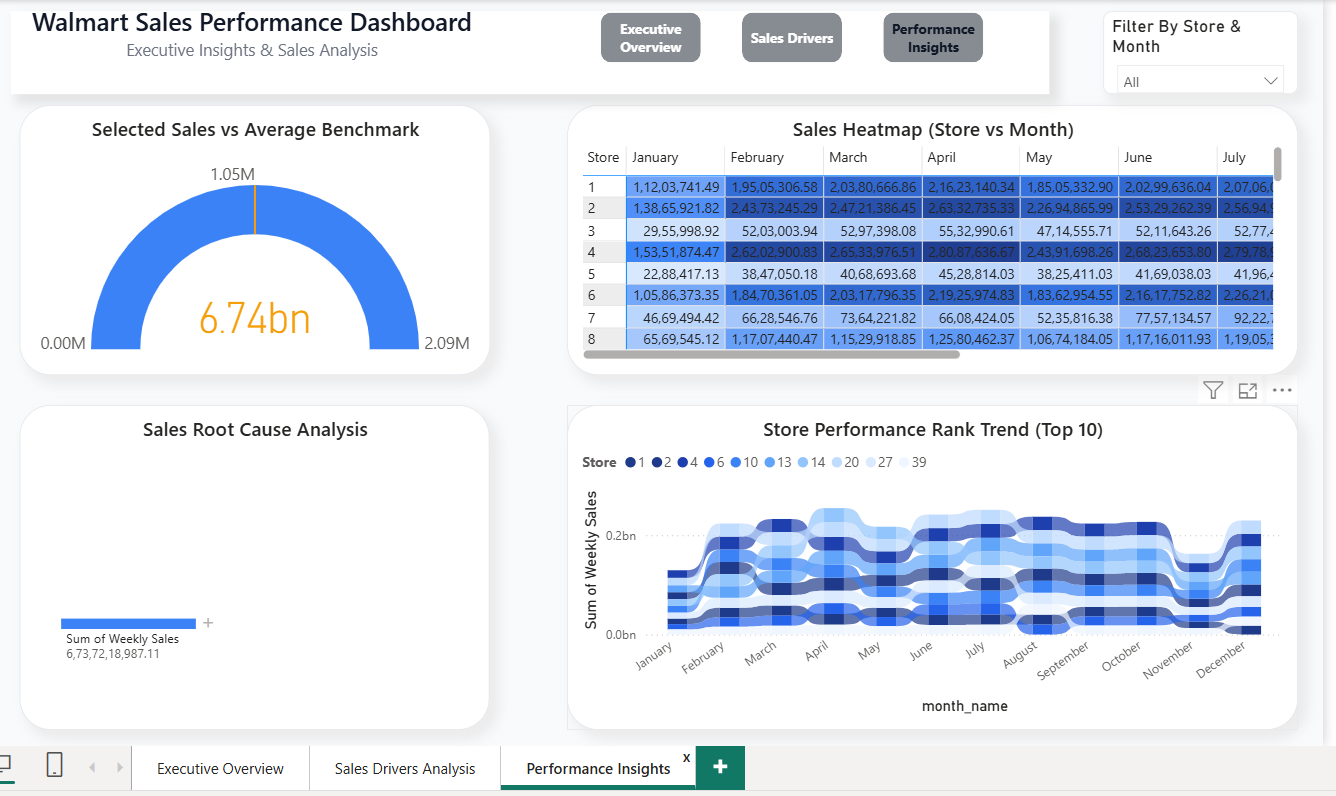

This screenshot's page, from the dashboard's own definition file:
{"tool":"powerbi","page":{"name":"Performance Insights","canvas":[1280,720],"ordinal":2},"visuals":[{"type":"ribbonChart","title":"Store Performance Rank Trend (Top 10)","fields":{"Category":["Walmart Sales.month_name"],"Series":["Walmart Sales.Store"],"Y":["Sum(Walmart Sales.Weekly Sales)"]},"box":[550.1,390.9,705.8,313.7],"z":0},{"type":"decompositionTreeVisual","title":"Sales Root Cause Analysis","fields":{"ExplainBy":["Walmart Sales.Holiday Type","Walmart Sales.Store","Walmart Sales.month_name"],"Analyze":["Sum(Walmart Sales.Weekly Sales)"]},"box":[21.7,390.9,453.6,313.7],"z":1000},{"type":"pivotTable","title":"Sales Heatmap (Store vs Month)","fields":{"Rows":["Walmart Sales.Store"],"Columns":["Walmart Sales.month_name"],"Values":["Sum(Walmart Sales.Weekly Sales)"]},"box":[550.1,101.3,705.8,260.6],"z":2000},{"type":"slicer","title":"Filter By Store & Month","fields":{"Values":["Walmart Sales.Store","Walmart Sales.month_name"]},"box":[1068,10.7,188,80],"z":3000},{"type":"shape","box":[13.3,10.7,1002.7,80],"z":4001},{"type":"actionButton","box":[582.7,12.1,96.5,48.3],"z":4002},{"type":"actionButton","box":[719,12.1,96.5,48.3],"z":4003},{"type":"actionButton","box":[855.4,12.1,96.5,48.3],"z":4004},{"type":"textbox","box":[0,0,492.2,100.1],"z":4005},{"type":"gauge","title":"Selected Sales vs Average Benchmark","fields":{"Y":["Sum(Walmart Sales.Weekly Sales)"],"TargetValue":["Avg(Walmart Sales.Weekly Sales)"],"MaxValue":["Walmart Sales.Max Gauge Value"]},"box":[22.2,101.4,454.2,261.1],"z":4006}]}

Visuals, with their boxes on the page's 1280x720 design canvas (x1, y1, x2, y2). These are canvas units, not pixel positions in the 1336x796 screenshot, which may show the page scaled, cropped or inside an application window:
"Store Performance Rank Trend (Top 10)" ribbonChart: [x1=550, y1=391, x2=1256, y2=705]
"Sales Root Cause Analysis" decompositionTreeVisual: [x1=22, y1=391, x2=475, y2=705]
"Sales Heatmap (Store vs Month)" pivotTable: [x1=550, y1=101, x2=1256, y2=362]
"Filter By Store & Month" slicer: [x1=1068, y1=11, x2=1256, y2=91]
shape: [x1=13, y1=11, x2=1016, y2=91]
actionButton: [x1=583, y1=12, x2=679, y2=60]
actionButton: [x1=719, y1=12, x2=816, y2=60]
actionButton: [x1=855, y1=12, x2=952, y2=60]
textbox: [x1=0, y1=0, x2=492, y2=100]
"Selected Sales vs Average Benchmark" gauge: [x1=22, y1=101, x2=476, y2=362]
